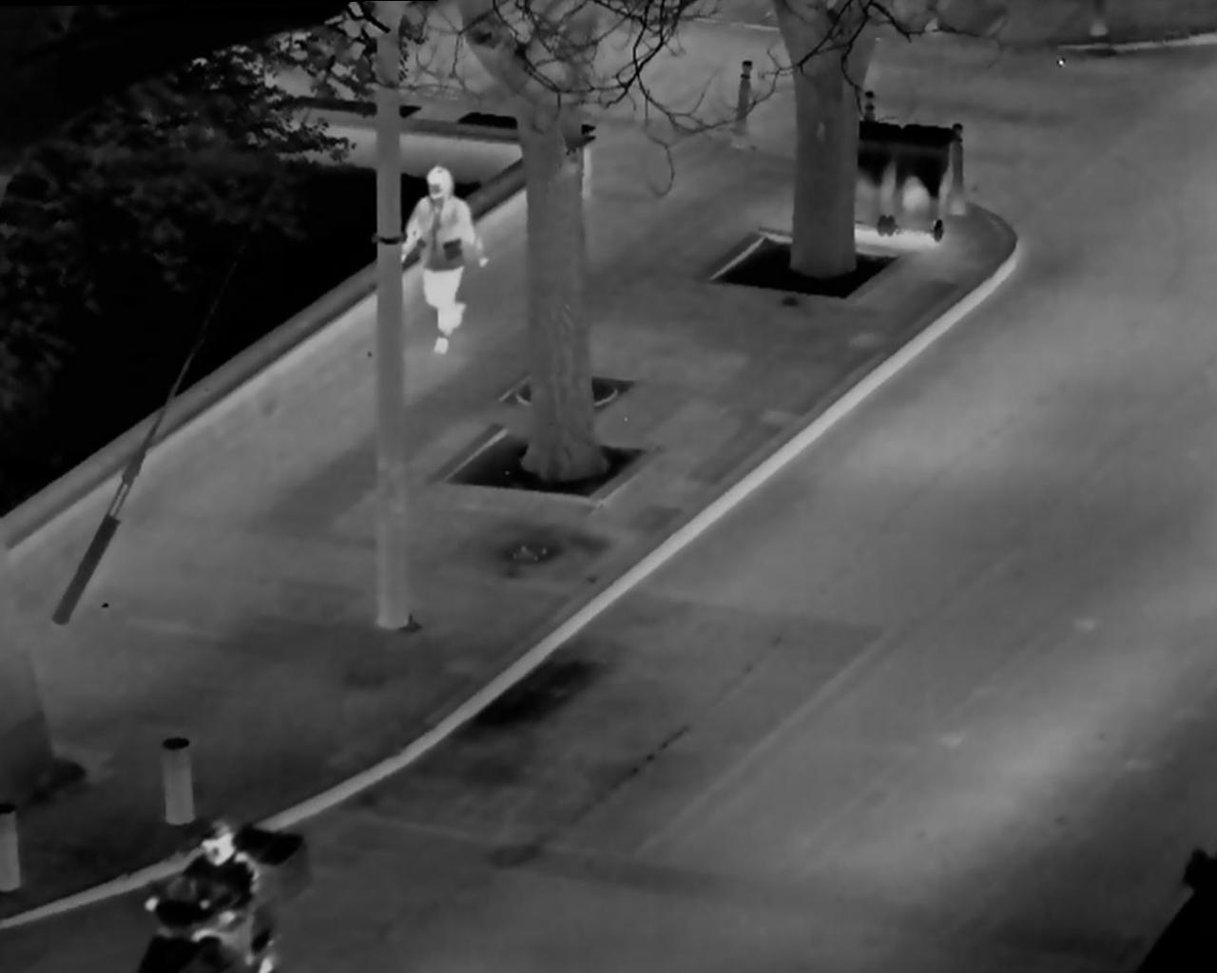person: (147, 810, 289, 965), (393, 157, 493, 354)
